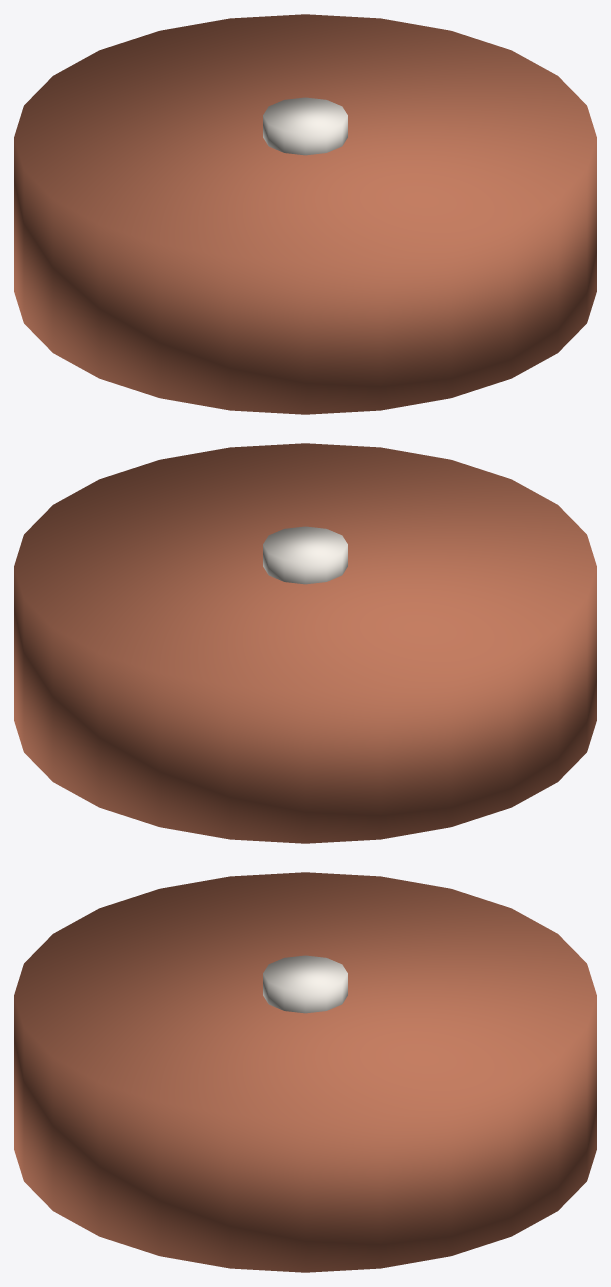
Rendered from vintage_cushion_01.glb.
The picture shows the model from 3 angles, top to bottom: view 1: azimuth 30°, elevation 25°; view 2: azimuth 150°, elevation 25°; view 3: azimuth 270°, elevation 25°; orthographic projection.
Parts seen in each view (by area): view 1: vintage_cushion_01; view 2: vintage_cushion_01; view 3: vintage_cushion_01.
Part boxes in pixels (x1,y1,x2,y2): vintage_cushion_01: (14, 14, 596, 414); vintage_cushion_01: (14, 443, 596, 843); vintage_cushion_01: (14, 872, 596, 1272).
Size of the model in its own units: 0.48 by 0.18 by 0.48.
